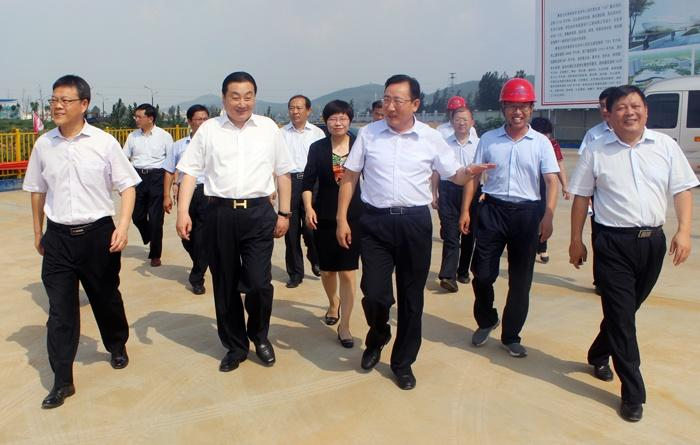Helmet: (499, 77, 536, 127)
NoHelmet: (49, 75, 91, 127), (383, 74, 424, 126)
NoVest: (585, 130, 679, 228), (194, 114, 281, 203)
